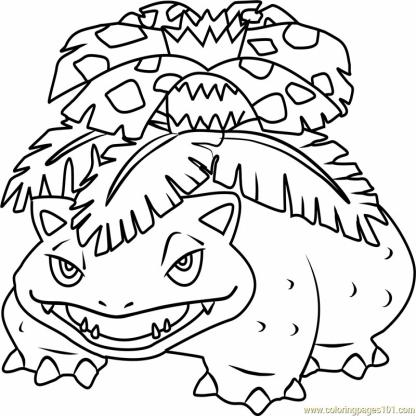Venusaur: (1, 2, 416, 416)
